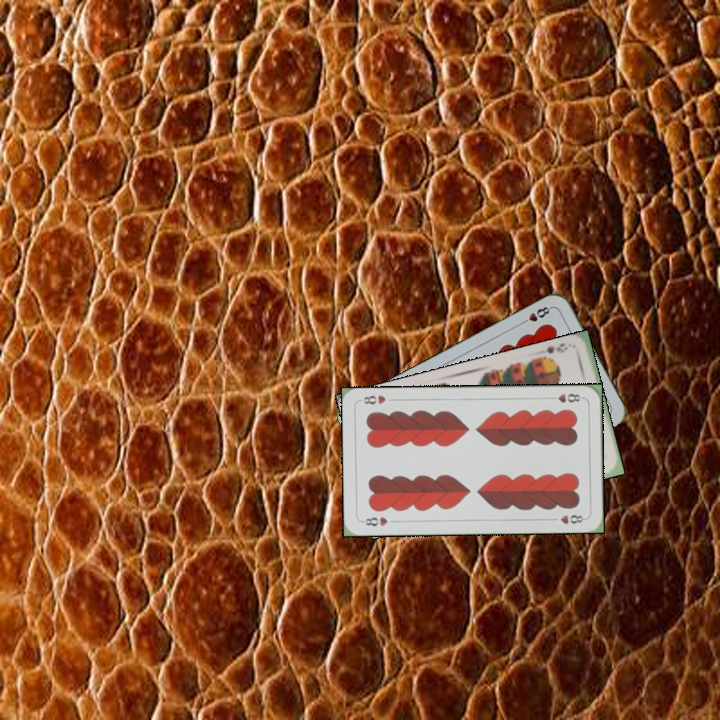H8: (517, 302, 554, 327), (545, 390, 586, 405), (358, 513, 390, 528)
S9: (536, 339, 570, 364)
